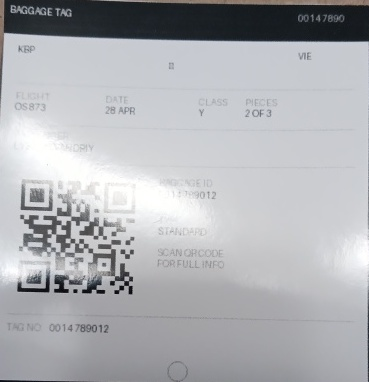LPN_bottom: (45, 319, 112, 336)
